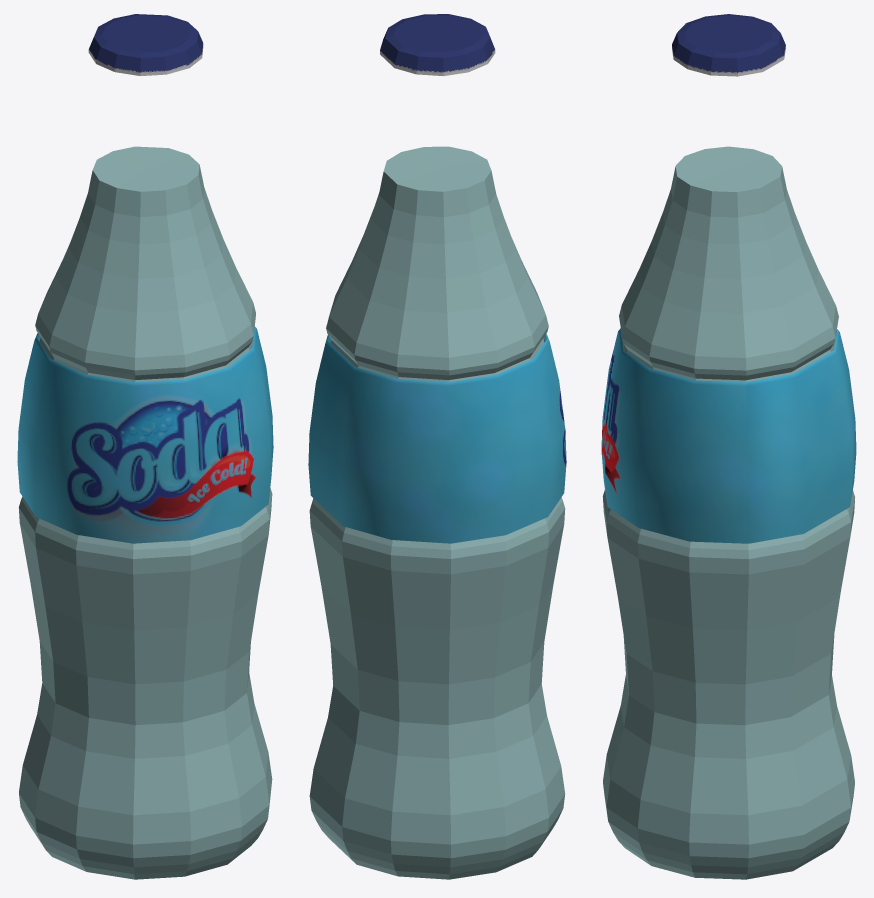
The model's file is Soda.fbx.
The picture shows the model from 3 angles, left to right: view 1: azimuth 30°, elevation 25°; view 2: azimuth 150°, elevation 25°; view 3: azimuth 270°, elevation 25°; orthographic projection.
Visible parts, largest first — view 1: liquid, lable, Soda_cap; view 2: liquid, lable, Soda_cap; view 3: liquid, lable, Soda_cap.
Boxes of the visible parts, left/top/right/bottom form: liquid: left=18, top=146, right=272, bottom=879; lable: left=17, top=326, right=273, bottom=543; Soda_cap: left=88, top=14, right=203, bottom=75; liquid: left=309, top=146, right=565, bottom=879; lable: left=308, top=333, right=566, bottom=543; Soda_cap: left=380, top=14, right=495, bottom=76; liquid: left=602, top=146, right=855, bottom=879; lable: left=601, top=328, right=856, bottom=543; Soda_cap: left=672, top=14, right=785, bottom=76.
Bounding box in the file's own units: 0.0558 × 0.1866 × 0.0551.
2 materials, 2 textured.
